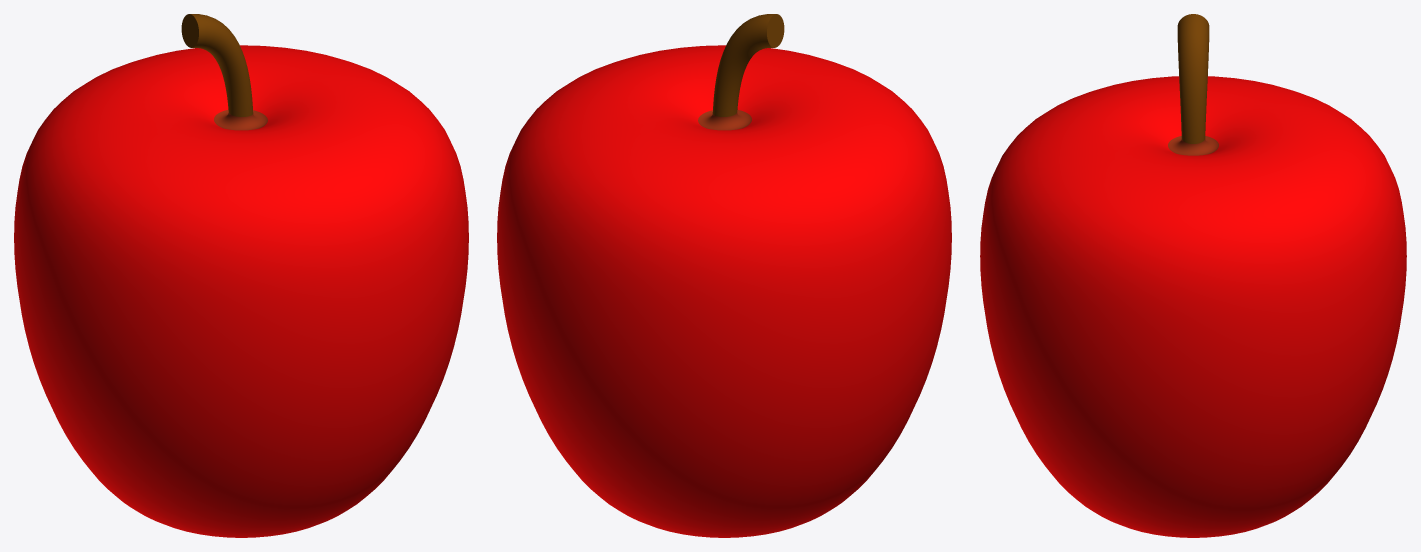
File: apple.dae
The picture shows the model from 3 angles, left to right: view 1: azimuth 30°, elevation 25°; view 2: azimuth 150°, elevation 25°; view 3: azimuth 270°, elevation 25°; orthographic projection. The views are drawn at different scales.
Visible parts, largest first — view 1: Part 1; view 2: Part 1; view 3: Part 1.
Part boxes in pixels (x1,y1,x2,y2): Part 1: (14,14,468,537); Part 1: (497,14,951,537); Part 1: (980,14,1406,537).
Size of the model in its own units: 0.0937 by 0.0937 by 0.1137.
